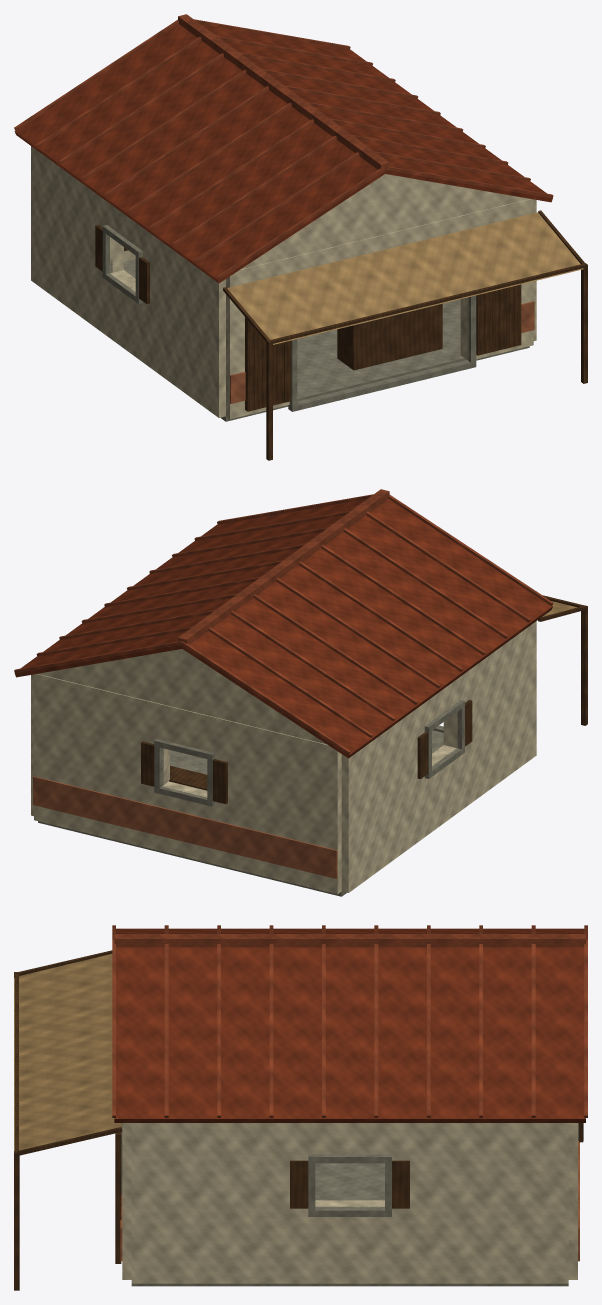
Rendered from taberna_lod1.glb.
3 renders of one model, top to bottom at view 1: azimuth 30°, elevation 25°; view 2: azimuth 150°, elevation 25°; view 3: azimuth 270°, elevation 25°, orthographic. The views are drawn at different scales.
Visible parts, largest first — view 1: taberna_lod1; view 2: taberna_lod1; view 3: taberna_lod1.
Part boxes in pixels (x1,y1,x2,y2): taberna_lod1: [14, 14, 587, 460]; taberna_lod1: [14, 489, 587, 896]; taberna_lod1: [14, 925, 587, 1290].
Size of the model in its own units: 7.74 by 4.99 by 9.85.
8 materials, 8 textured.
